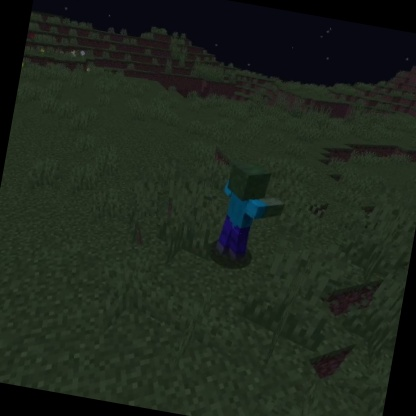zombie: (209, 156, 293, 272)
